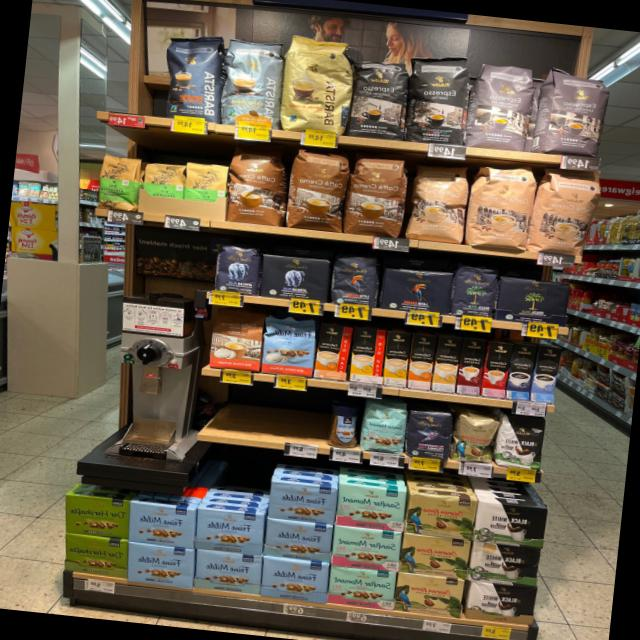AB Bohne: (212, 241, 264, 297)
AB Gemahlen: (258, 252, 334, 304)
Athiopien Bohne: (95, 152, 146, 212)
BM Bohne: (448, 264, 502, 321)
BW Bohne: (493, 412, 548, 472)
BW Gemahlen: (492, 276, 572, 326), (472, 499, 550, 548), (464, 540, 541, 587), (464, 578, 538, 626)
Barista CB: (276, 32, 360, 139)
Barista CC: (218, 36, 288, 132)
Barista Espresso: (158, 30, 230, 126)
C Fino Bohne: (402, 406, 456, 461)
CC Mild: (526, 164, 604, 260), (463, 159, 539, 253), (404, 158, 473, 245)
CC Vollmundig: (206, 303, 266, 374)
CC Vollmundig 36 Pads: (283, 146, 353, 235), (342, 153, 412, 241), (224, 144, 290, 228)
Colombia BB Bohne: (448, 410, 504, 466)
Colombia BB Gemahlen: (403, 491, 478, 540), (396, 532, 472, 580), (392, 572, 466, 618)
Empty Shelf: (210, 388, 326, 444), (106, 24, 164, 114), (199, 471, 270, 514)
Espresso Kraftig: (402, 50, 476, 150)
Espresso M Art: (528, 64, 614, 160), (463, 59, 539, 154)
Espresso S Art: (346, 57, 412, 144)
FM 36 Pads: (258, 312, 318, 379)
FM Gemahlen: (193, 508, 266, 556), (258, 556, 330, 604), (266, 479, 339, 525), (127, 501, 197, 548), (192, 548, 263, 594), (125, 542, 196, 588), (262, 518, 334, 562)
FM Instant: (324, 398, 362, 451)
Herzhatfe Mundig: (63, 533, 129, 580), (63, 494, 130, 540)
LG Bohne: (328, 252, 385, 310)
LG Gemahlen: (378, 264, 456, 317)
SM Bohne: (356, 396, 410, 455)
SM Gemahlen: (333, 484, 407, 533), (329, 524, 403, 572), (326, 565, 398, 610)
Simo CCMild: (348, 326, 386, 384)
Simo CCMild bigpack: (381, 330, 413, 387)
Simo CCVollmundig: (311, 321, 354, 381)
Simo CCVollmundig bigpack: (406, 333, 436, 391)
Simo Decaff: (430, 333, 462, 392)
Simo Es Elegant: (454, 336, 489, 396), (479, 340, 514, 398)
Simo Kaffee Kraft: (505, 342, 537, 400)
Simo Kaffee Mild: (529, 344, 561, 404)
